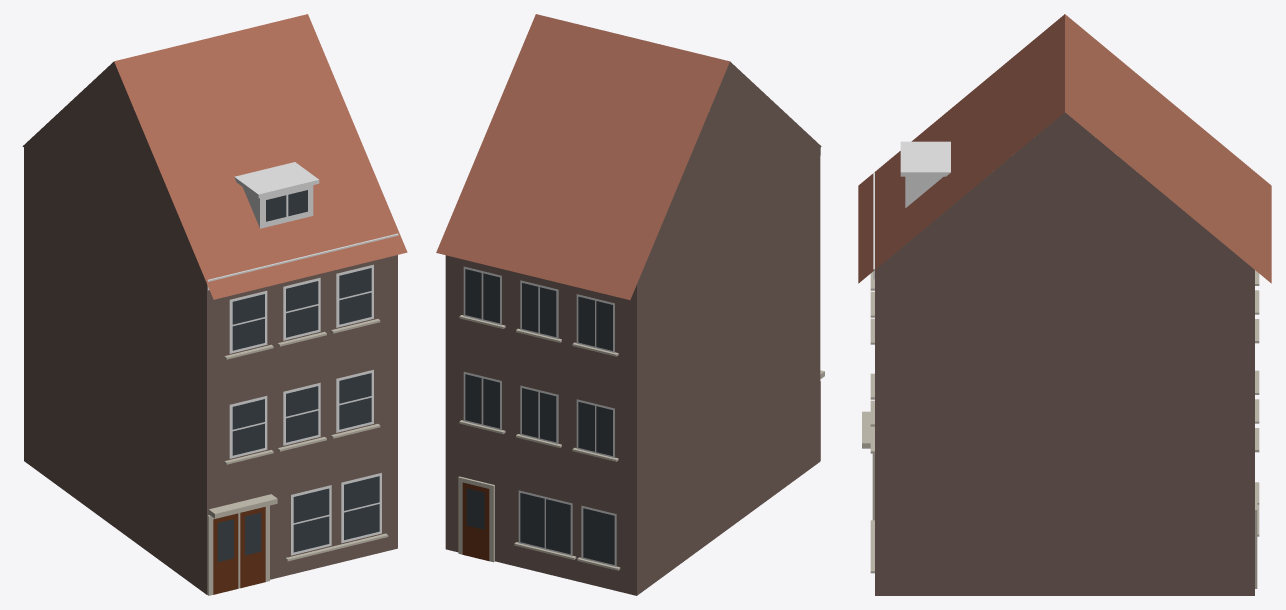
File: we-or-roof__brown__3__gable__long__solid.glb
3 renders of one model, left to right at view 1: azimuth 30°, elevation 25°; view 2: azimuth 150°, elevation 25°; view 3: azimuth 270°, elevation 25°, orthographic. The views are drawn at different scales.
Visible parts, largest first — view 1: we-or-roof__brown__3__gable__long__solid; view 2: we-or-roof__brown__3__gable__long__solid; view 3: we-or-roof__brown__3__gable__long__solid.
Boxes of the visible parts, x1,y1,x2,y2 form: we-or-roof__brown__3__gable__long__solid: (22, 14, 407, 595); we-or-roof__brown__3__gable__long__solid: (436, 14, 824, 595); we-or-roof__brown__3__gable__long__solid: (858, 14, 1271, 595).
Bounding box in the file's own units: 6.18 × 14.23 × 11.01.
